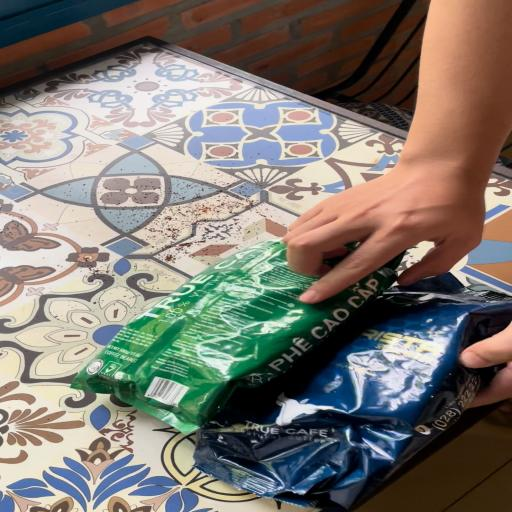cafe_hat: (193, 274, 512, 512)
cafe_xay: (71, 239, 402, 434)
